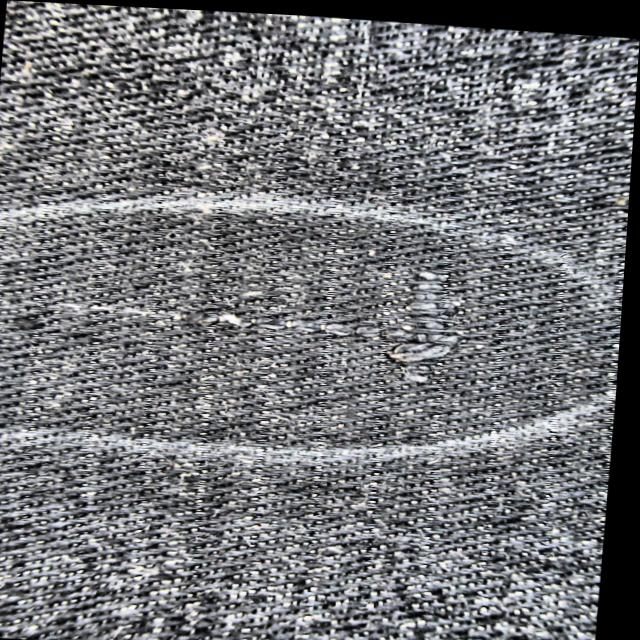Stitch: (58, 225, 498, 403)
